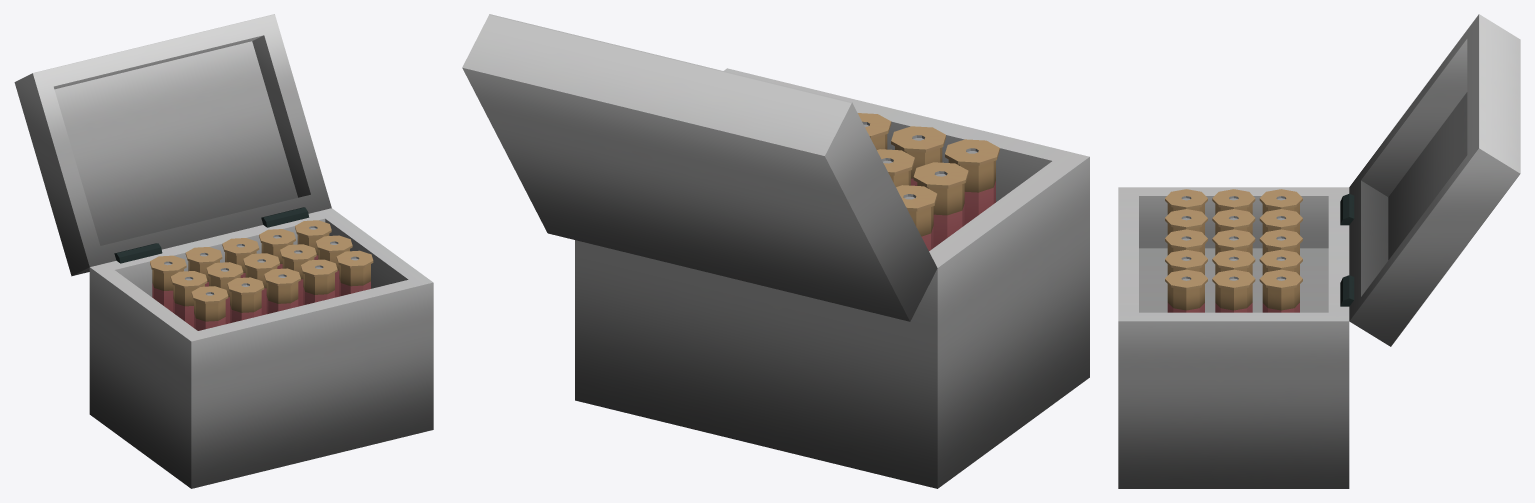
File: Ammo_Crate_FBX.fbx
The picture shows the model from 3 angles, left to right: view 1: azimuth 30°, elevation 25°; view 2: azimuth 150°, elevation 25°; view 3: azimuth 270°, elevation 25°; orthographic projection. The views are drawn at different scales.
Parts seen in each view (by area): view 1: pCube188; view 2: pCube188; view 3: pCube188.
Part boxes in pixels (<box>): pCube188: <box>14,14,433,488</box>; pCube188: <box>462,14,1089,488</box>; pCube188: <box>1118,14,1520,488</box>.
Bounding box in the file's own units: 11.54 × 13.66 × 14.61.
